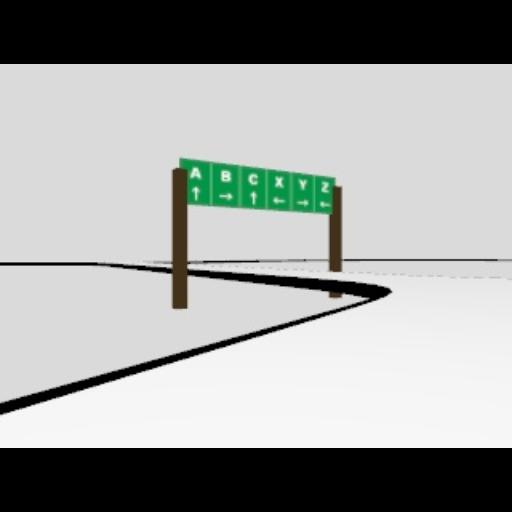A: (188, 166, 200, 178)
B: (220, 170, 230, 180)
C: (246, 172, 258, 184)
Left: (318, 200, 330, 208), (272, 197, 284, 203)
Right: (218, 192, 232, 200), (296, 199, 308, 205)
Straight: (190, 186, 200, 200), (248, 191, 256, 205)
X: (273, 174, 283, 188)
Y: (297, 178, 307, 188)
Z: (320, 180, 330, 192)
